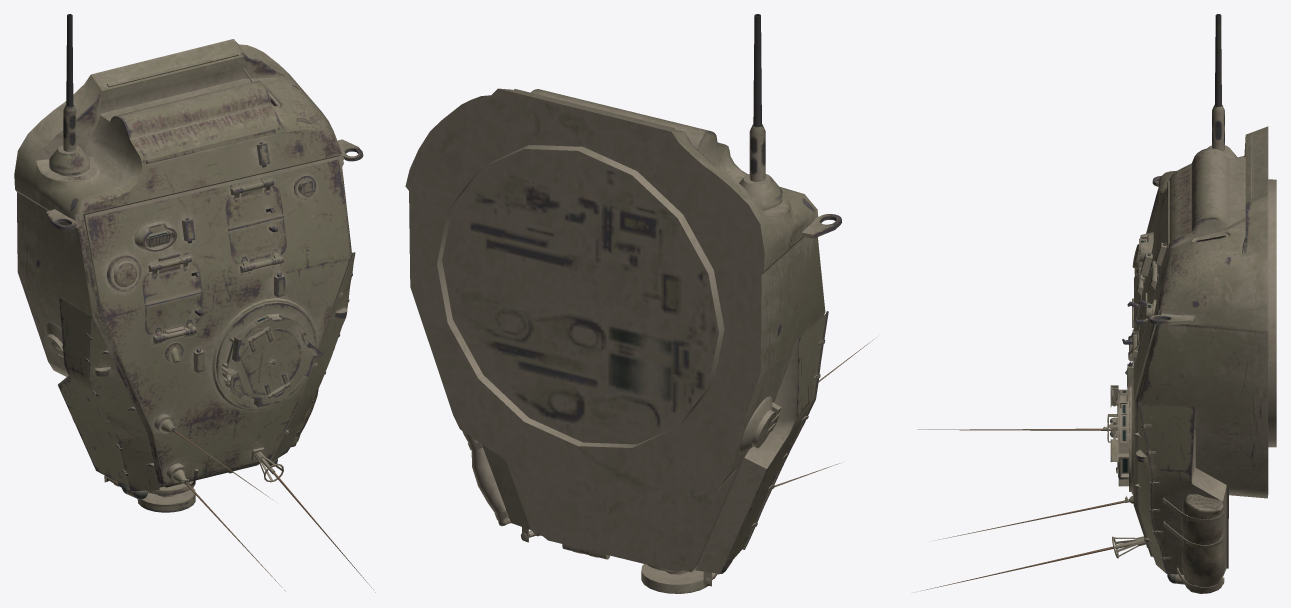
The model's file is Turret_01.glb.
The picture shows the model from 3 angles, left to right: view 1: azimuth 30°, elevation 25°; view 2: azimuth 150°, elevation 25°; view 3: azimuth 270°, elevation 25°; orthographic projection. The views are drawn at different scales.
Parts seen in each view (by area): view 1: set_0_group_0; view 2: set_0_group_0; view 3: set_0_group_0.
Boxes of the visible parts, box(x1,y1,x2,y2) form: set_0_group_0: box(14, 14, 375, 592); set_0_group_0: box(405, 14, 876, 593); set_0_group_0: box(917, 14, 1276, 593).
Bounding box in the file's own units: 2.53 × 3.98 × 2.63.
Materials: 1 (1 with a texture image).
